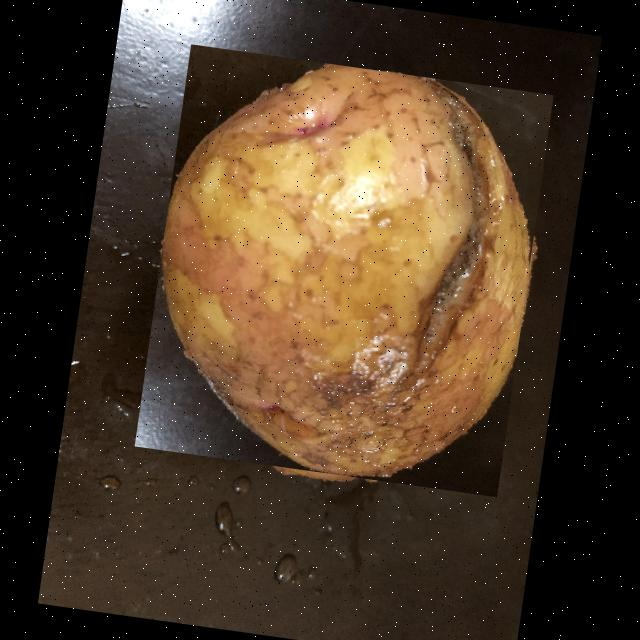Damaged potato: (134, 45, 554, 498)
